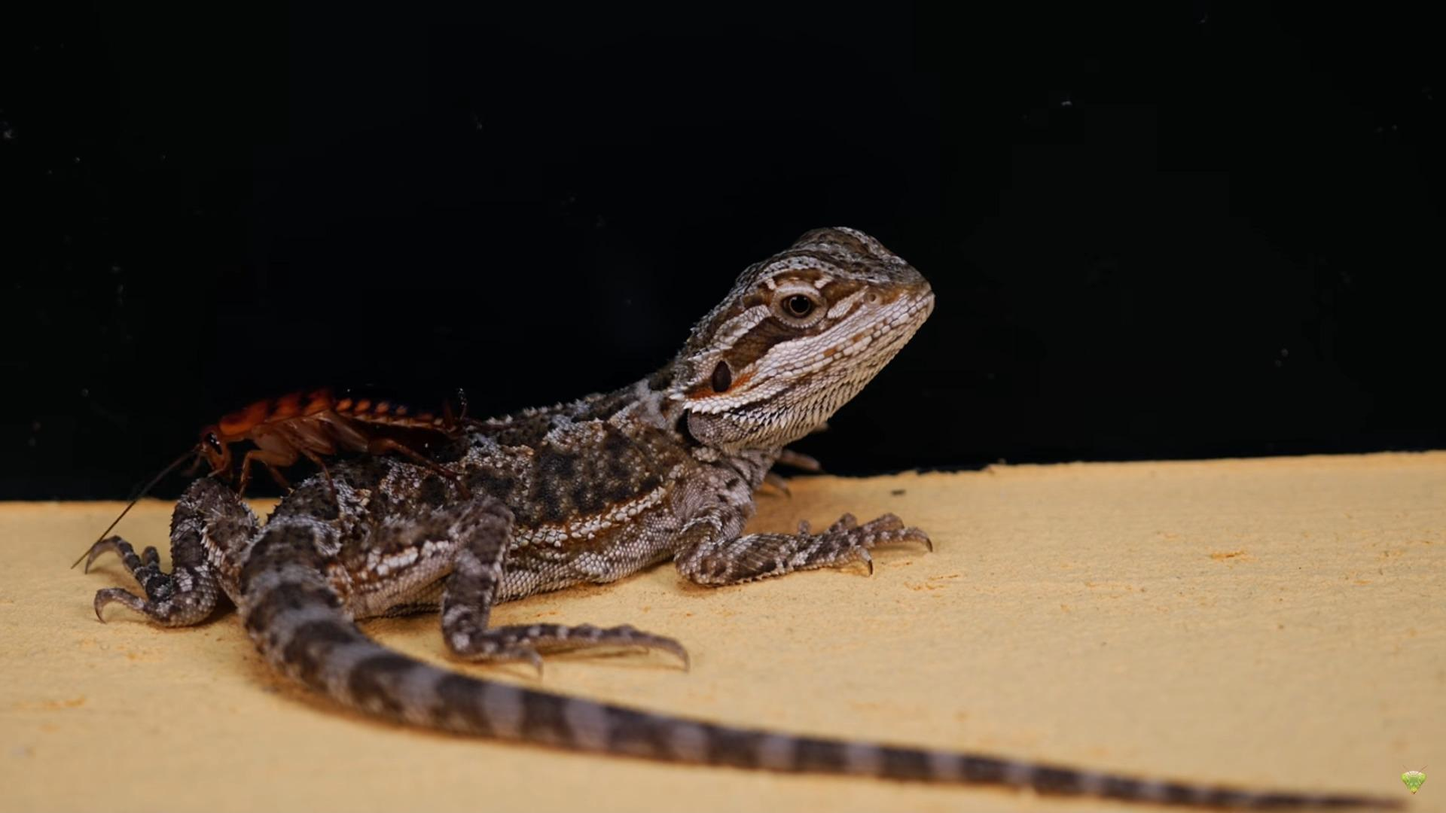cockroach: (175, 376, 456, 489)
lizard: (92, 207, 936, 729)
